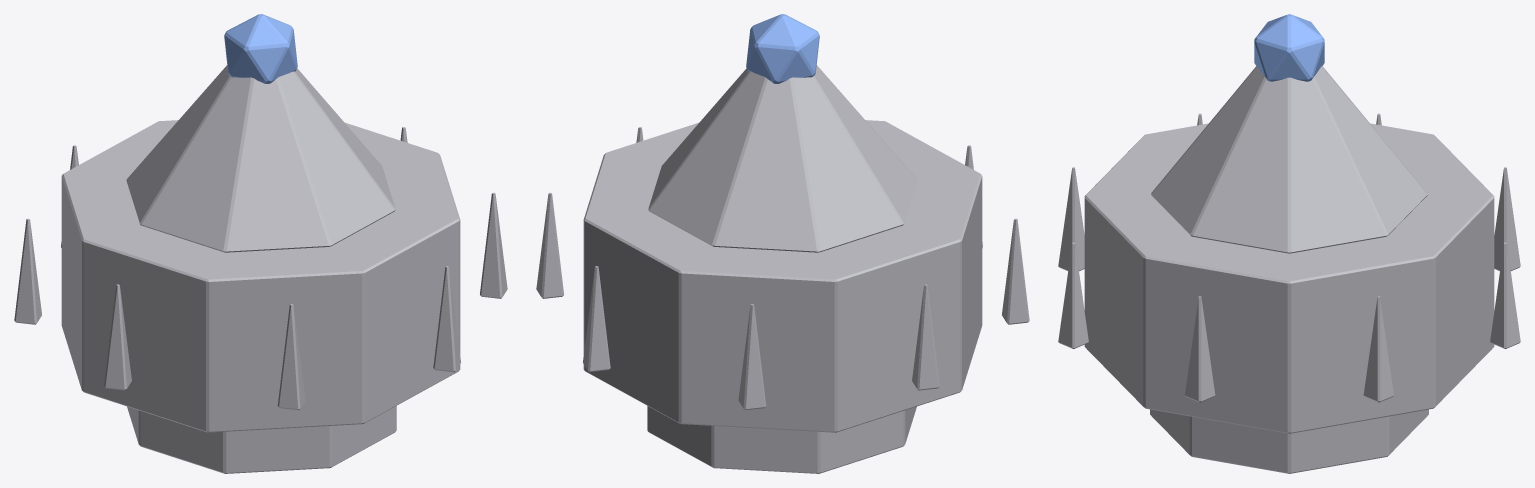
File: SM_SeverantBastion.fbx
3 renders of one model, left to right at view 1: azimuth 30°, elevation 25°; view 2: azimuth 150°, elevation 25°; view 3: azimuth 270°, elevation 25°, orthographic.
Visible parts, largest first — view 1: SM_SeverantBastion; view 2: SM_SeverantBastion; view 3: SM_SeverantBastion.
Boxes of the visible parts, x1,y1,x2,y2 form: SM_SeverantBastion: [14, 14, 507, 473]; SM_SeverantBastion: [536, 14, 1029, 473]; SM_SeverantBastion: [1058, 14, 1520, 473].
Bounding box in the file's own units: 495 × 473 × 495.
